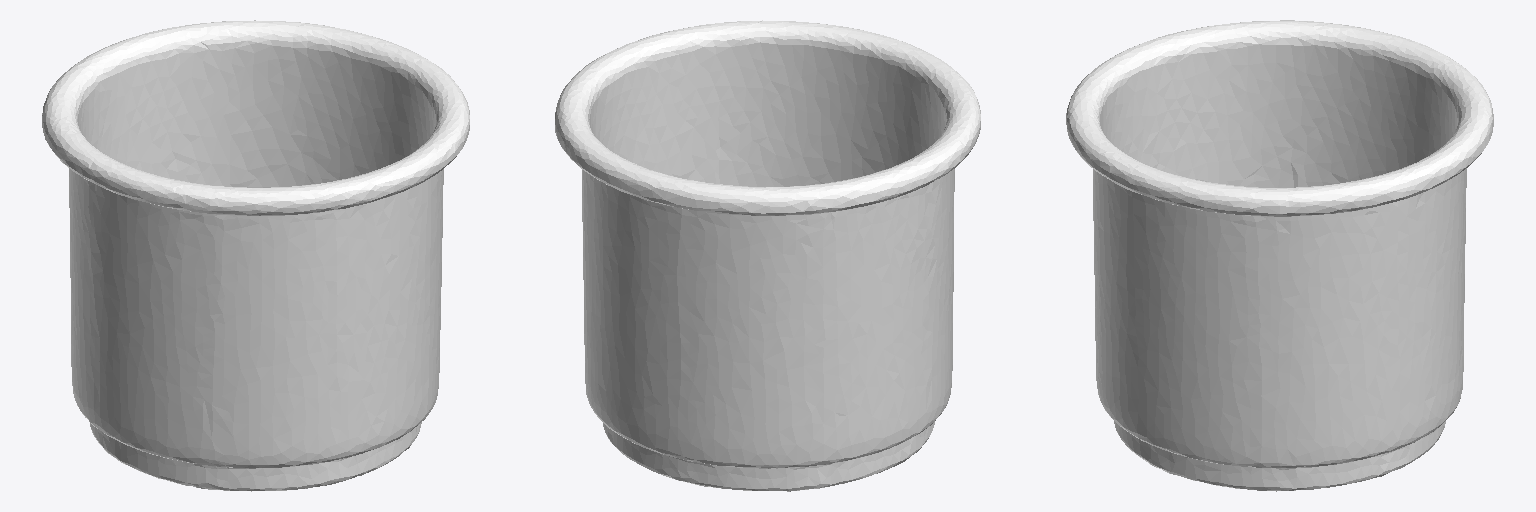
The robot description file, URDF, robot "063-b_marbles":
<robot name="063-b_marbles">
	<link name="_name">
		<visual>
			<origin xyz="0.09111904265061219 0.45112331428125263 -0.16845139796964975" rpy="0 0 0" />
			<geometry>
				<mesh filename="063-b_marbles/google_16k/textured.obj" scale="10 10 10" />
			</geometry>
			<material name="texture">
				<color rgba="1.0 1.0 1.0 1.0" />
			</material>
		</visual>
		<collision>
			<geometry>
				<mesh filename="063-b_marbles/google_16k/textured_vhacd.obj" scale="10 10 10" />
			</geometry>
		<origin xyz="0.09111904265061219 0.45112331428125263 -0.16845139796964975" rpy="0 0 0" /></collision>
		<inertial>
			<mass value="1.0" />
			<inertia ixx="1.0" ixy="0.0" ixz="0.0" iyy="1.0" iyz="0.0" izz="1.0" />
		</inertial>
	</link>
</robot>

--- Facts derived from the render (not from the file) ---
Views: 3 orthographic renders of the robot side by side, from view 1: azimuth 30°, elevation 25°; view 2: azimuth 150°, elevation 25°; view 3: azimuth 270°, elevation 25°.
Model 063-b_marbles with 1 links and 0 joints (none), rooted at _name, posed every joint at zero.
Links seen in each view (by area): view 1: _name; view 2: _name; view 3: _name.
Boxes of the visible links, x1,y1,x2,y2 form: _name: [42, 20, 469, 491]; _name: [555, 20, 980, 491]; _name: [1066, 20, 1493, 491].
Bounding box of the posed robot: 0.915 × 0.9162 × 0.7506 m (x, y, z).
1 mesh visuals loaded from 1 distinct referenced files (1 OBJ).